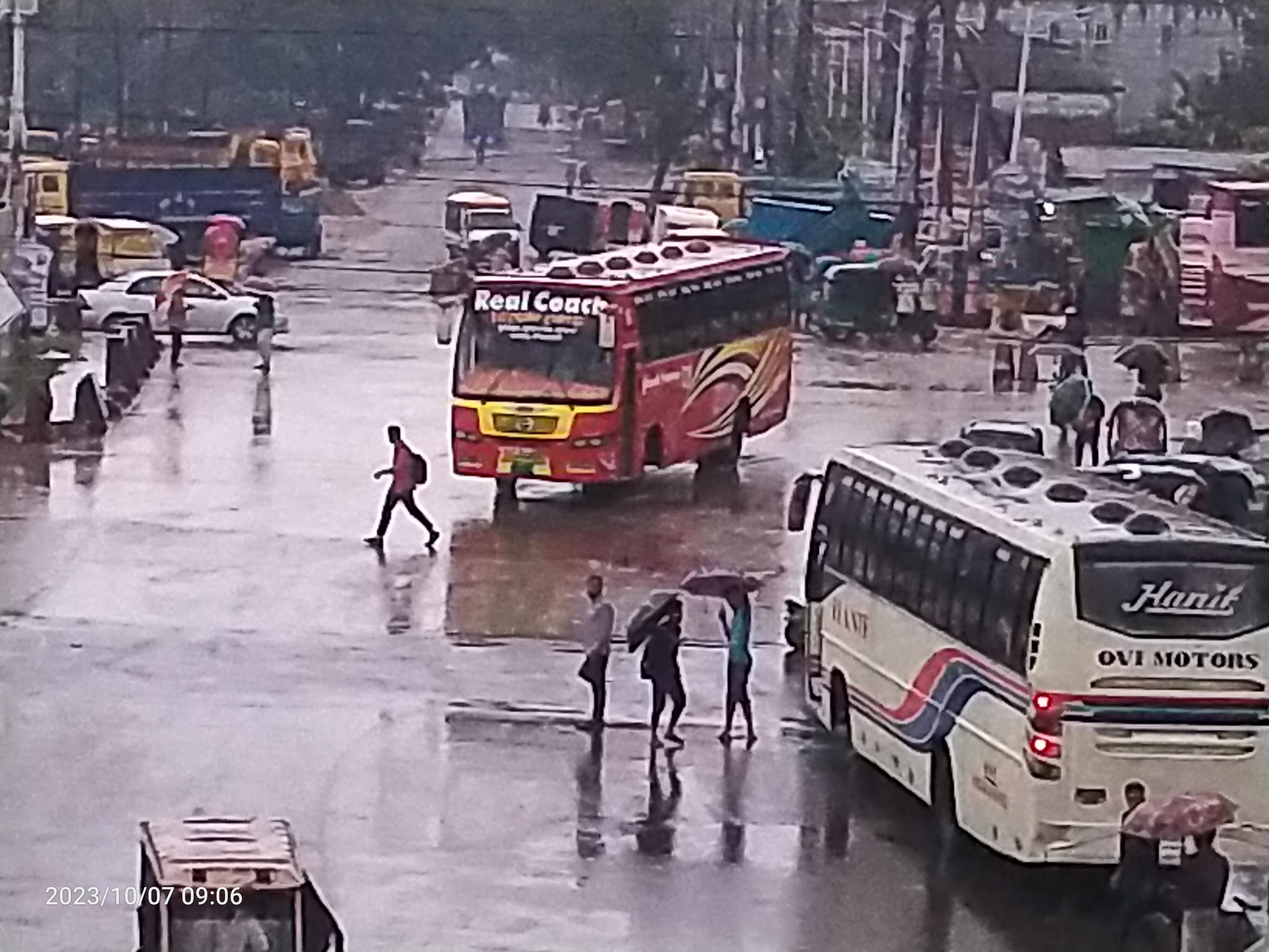Bus: (766, 411, 1269, 897), (403, 223, 814, 513), (1165, 152, 1269, 374)
Car: (116, 783, 394, 952), (36, 257, 304, 359), (431, 175, 527, 276)
Truck: (0, 149, 331, 255), (659, 146, 935, 231), (88, 105, 326, 201)
